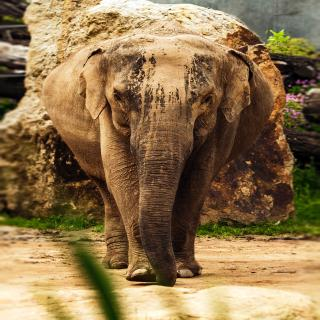Elephant: (36, 29, 263, 287)
